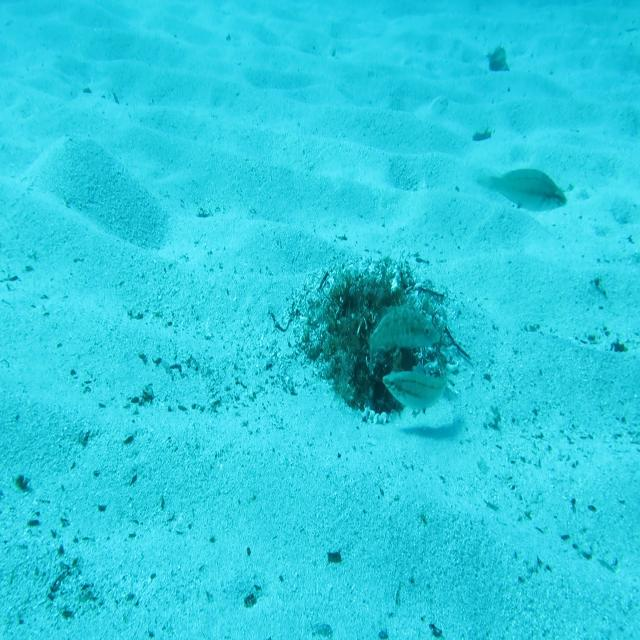DAN_CIRC: (368, 300, 442, 373)
core_nest: (350, 286, 400, 319)
female: (475, 166, 569, 214), (382, 365, 450, 416)
nest: (292, 244, 462, 430)
vegetation: (488, 44, 508, 76), (472, 124, 490, 144), (326, 546, 342, 562)
